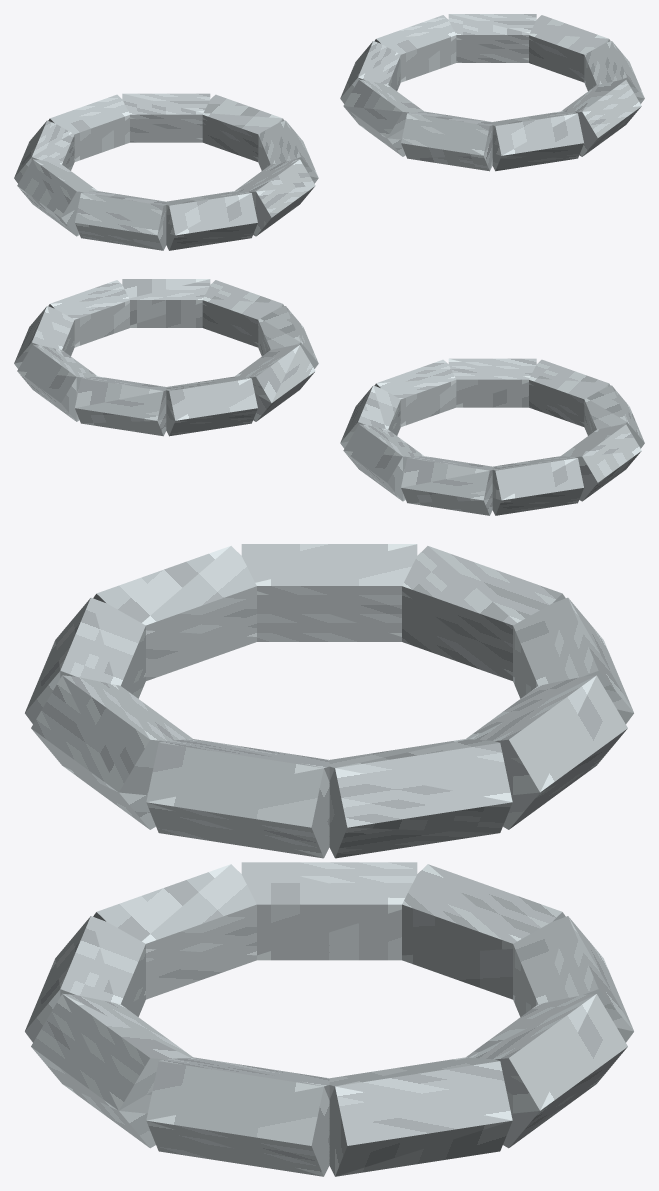
The model's file is silver_ear.glb.
3 renders of one model, top to bottom at view 1: azimuth 30°, elevation 25°; view 2: azimuth 150°, elevation 25°; view 3: azimuth 270°, elevation 25°, orthographic. The views are drawn at different scales.
Visible parts, largest first — view 1: block_earring loop3 (×2), block_earring loop2 (×2), block_earring loop7 (×2), block_earring loop8 (×2), block_earring loop6 (×2), block_earring loop1 (×2), block_earring loop4 (×2), block_earring loop0 (×2), block_earring loop5 (×2); view 2: block_earring loop5 (×2), block_earring loop6 (×2), block_earring loop1 (×2), block_earring loop0 (×2), block_earring loop2 (×2), block_earring loop7 (×2), block_earring loop4 (×2), block_earring loop8 (×2), block_earring loop3 (×2); view 3: block_earring loop0 (×2), block_earring loop8 (×2), block_earring loop4 (×2), block_earring loop3 (×2), block_earring loop5 (×2), block_earring loop1 (×2), block_earring loop7 (×2), block_earring loop2 (×2), block_earring loop6 (×2).
Boxes of the visible parts, x1,y1,x2,y2 form: block_earring loop3 (×2): (75, 111, 492, 250); block_earring loop2 (×2): (166, 111, 583, 250); block_earring loop7 (×2): (122, 14, 536, 142); block_earring loop8 (×2): (202, 15, 610, 161); block_earring loop6 (×2): (48, 15, 456, 161); block_earring loop1 (×2): (235, 79, 641, 236); block_earring loop4 (×2): (17, 79, 423, 236); block_earring loop0 (×2): (258, 41, 644, 183); block_earring loop5 (×2): (14, 41, 400, 183); block_earring loop5 (×2): (166, 376, 583, 515); block_earring loop6 (×2): (75, 376, 492, 515); block_earring loop1 (×2): (122, 279, 536, 407); block_earring loop0 (×2): (48, 280, 456, 426); block_earring loop2 (×2): (202, 280, 610, 426); block_earring loop7 (×2): (17, 344, 423, 501); block_earring loop4 (×2): (235, 344, 641, 501); block_earring loop8 (×2): (14, 306, 400, 448); block_earring loop3 (×2): (258, 306, 644, 448); block_earring loop0 (×2): (146, 739, 329, 1176); block_earring loop8 (×2): (329, 739, 512, 1176); block_earring loop4 (×2): (241, 544, 417, 960); block_earring loop3 (×2): (93, 546, 256, 999); block_earring loop5 (×2): (402, 546, 565, 999); block_earring loop1 (×2): (31, 675, 192, 1148); block_earring loop7 (×2): (466, 675, 627, 1148); block_earring loop2 (×2): (25, 597, 145, 1042); block_earring loop6 (×2): (513, 597, 633, 1042).
Size of the model in its own units: 0.0187 by 0.00138 by 0.00842.
Materials: 1 (1 with a texture image).
